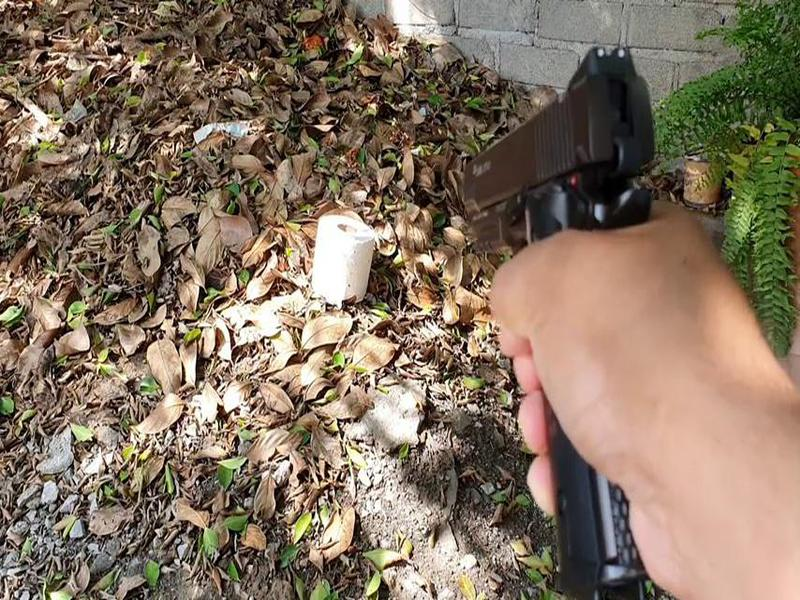Pistola: (423, 58, 682, 458)
